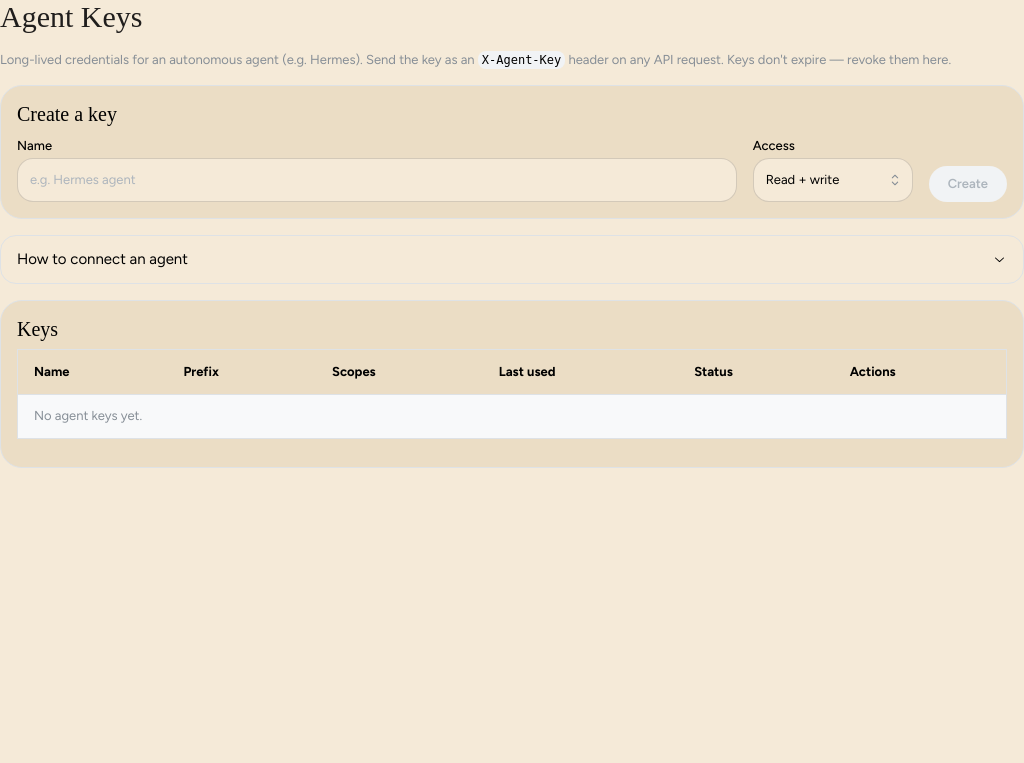
Scenario: Agent keys page — connect guide › stops showing the secret when its key is revoked
In the field with placeholder "e.g. Hermes agent": [377, 180] box [17,158,737,202], type "Hermes agent"
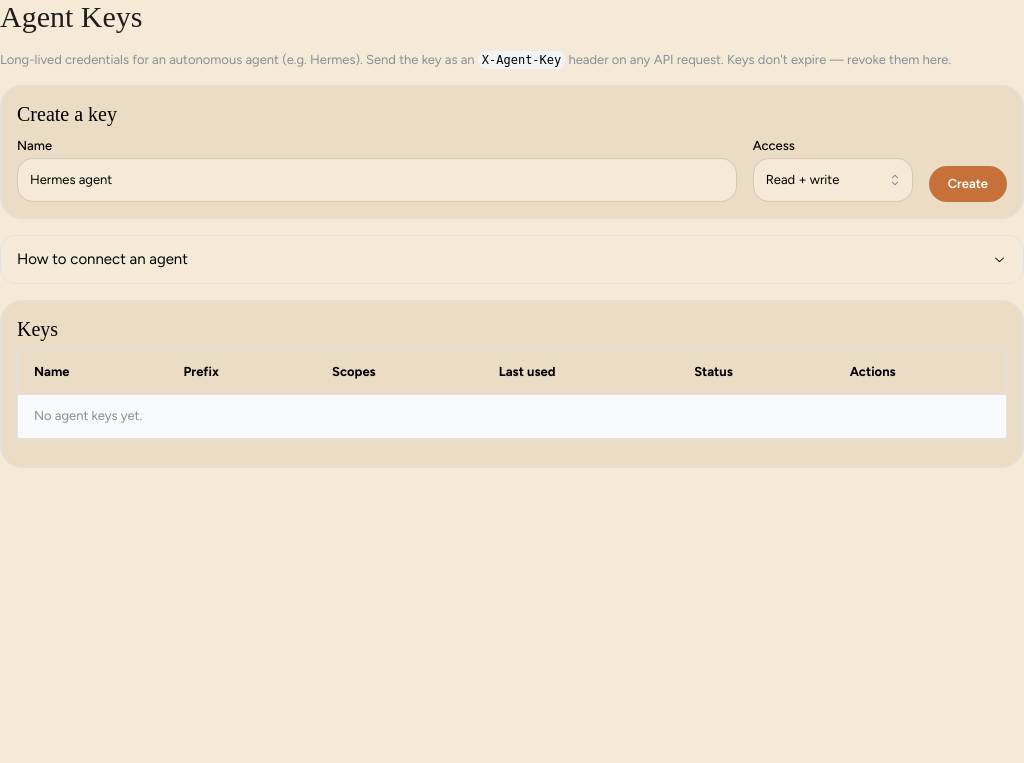
Click the button "Create": [968, 184] box [929,166,1007,202]
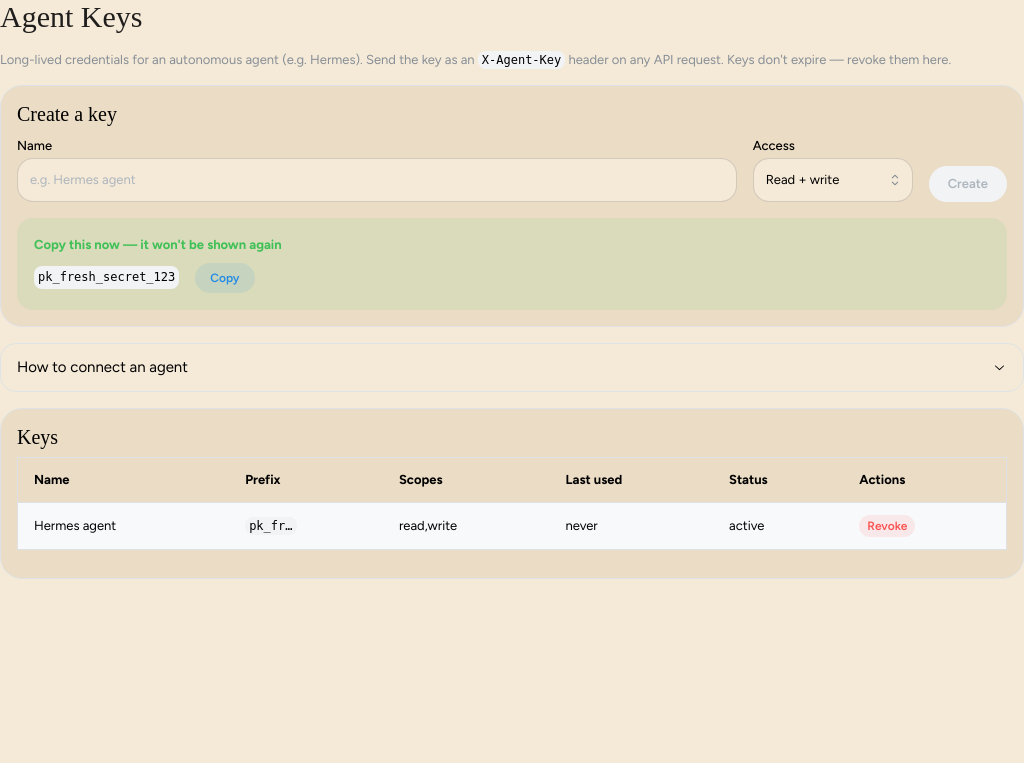
Now the text "Copy this now — it won't be shown again" is shown, box [34,235,282,255]
Click the button "Revoke": [887, 526] box [859,515,915,537]
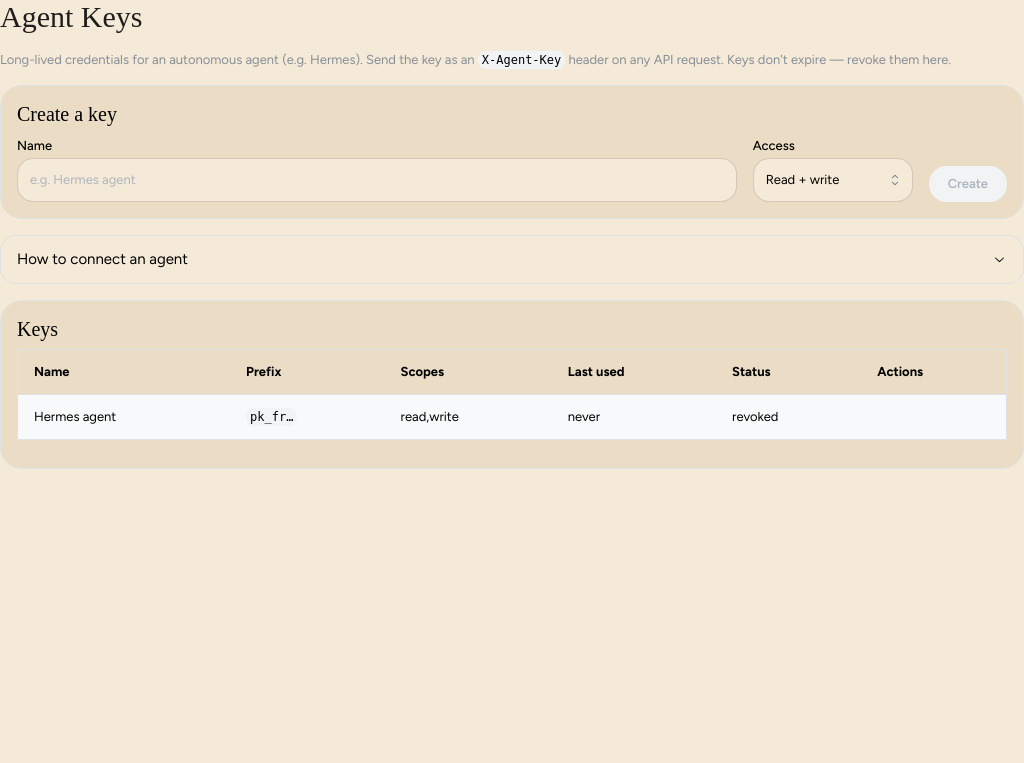
Now the text "won't be shown again" is gone
Click the button "How to connect an agent": [102, 259] box [1,236,1023,283]
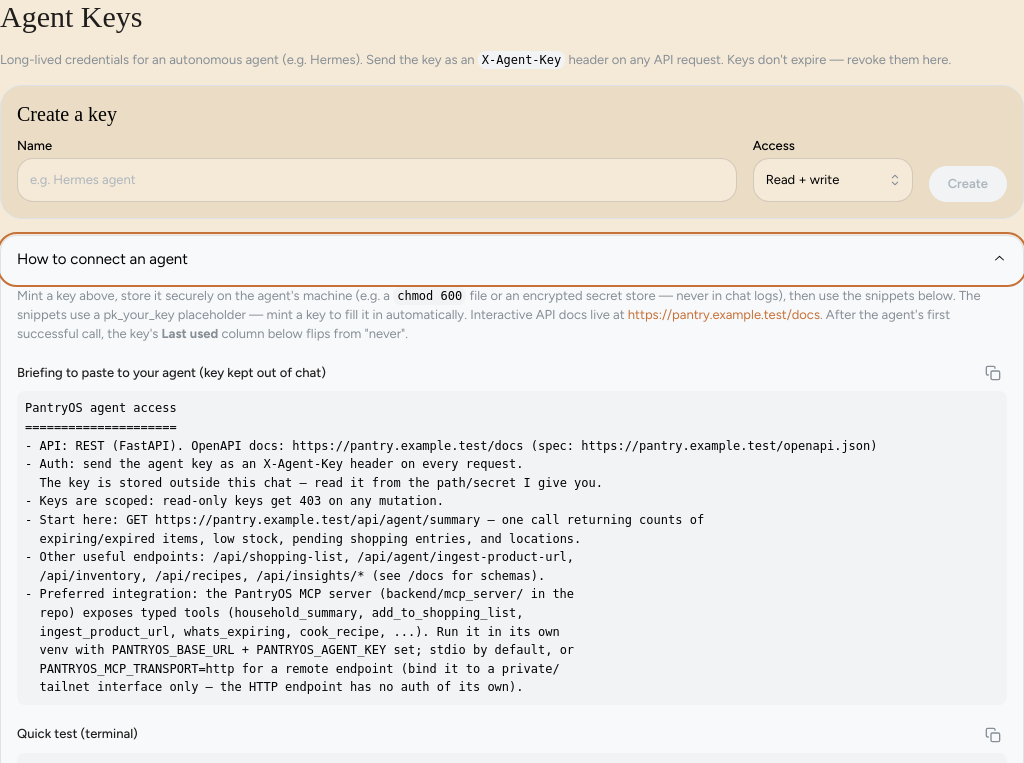
Now the text "pk_your_key" is shown, box [17,288,980,322]
